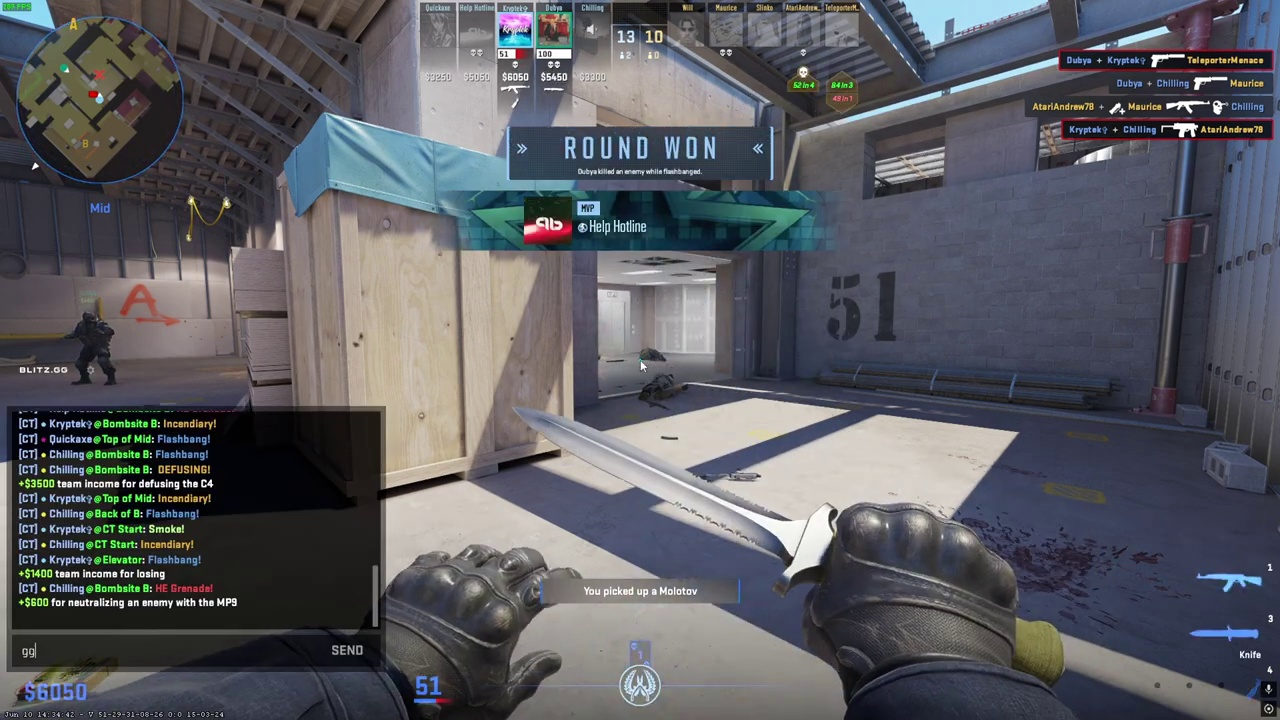CT: (72, 311, 116, 386)
